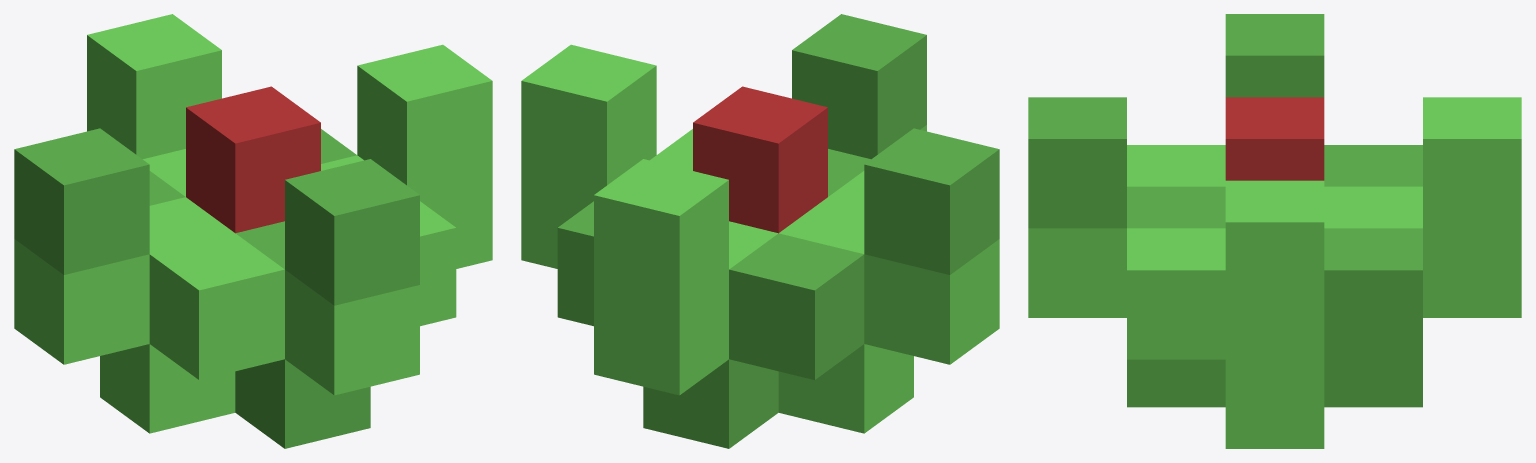
The model's file is Mushroom6_M.obj.
The picture shows the model from 3 angles, left to right: view 1: azimuth 30°, elevation 25°; view 2: azimuth 150°, elevation 25°; view 3: azimuth 270°, elevation 25°; orthographic projection.
Visible parts, largest first — view 1: Mushroom6_M; view 2: Mushroom6_M; view 3: Mushroom6_M.
Part boxes in pixels (left/top/right/bottom): Mushroom6_M: left=14, top=14, right=492, bottom=448; Mushroom6_M: left=521, top=14, right=999, bottom=448; Mushroom6_M: left=1028, top=14, right=1521, bottom=448.
Size of the model in its own units: 0.5 by 0.3 by 0.5.
1 material, 1 textured.
